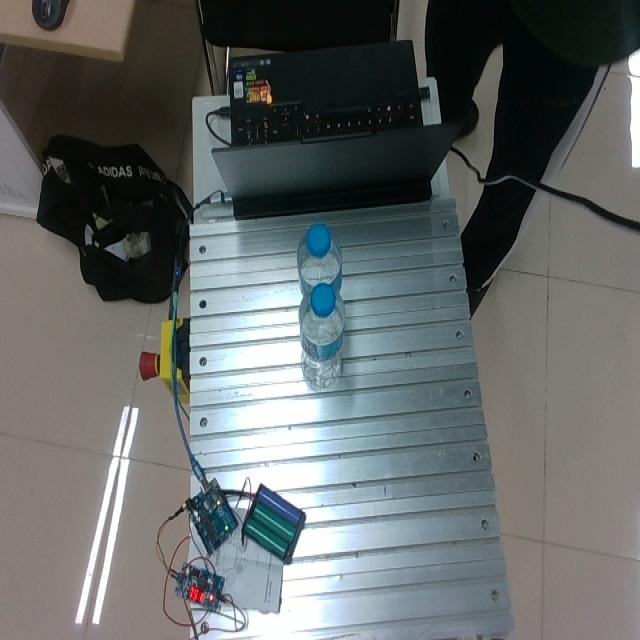lavie: (298, 280, 345, 388), (296, 224, 343, 300)
